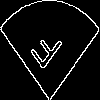F: (25, 24, 64, 79)
